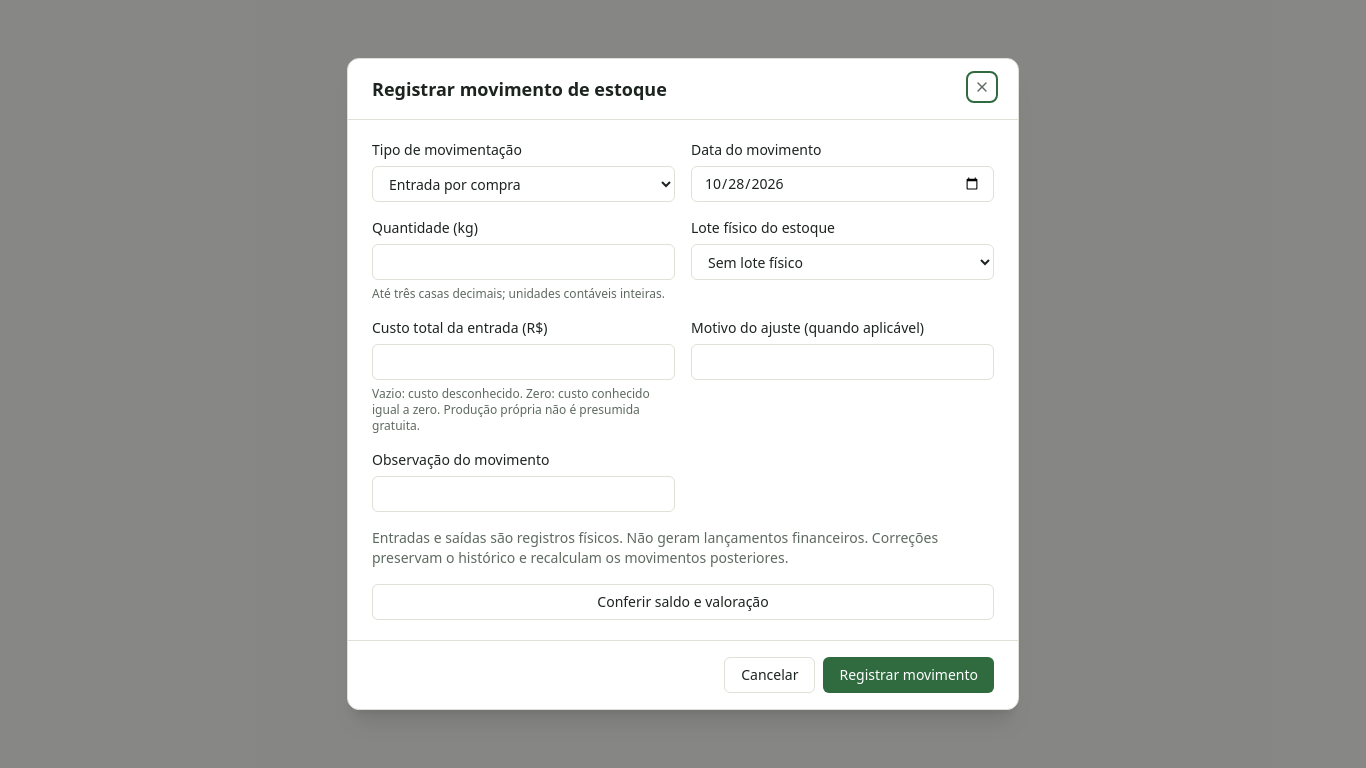
Test: estoque: interface e entradas explícitas › recusa quantidade ambígua antes do IPC
The width and height of the screenshot is (1366, 768).
Type "1.050" into the field labelled "Quantidade (kg)" at (524, 262), box x1=372 y1=244 x2=675 y2=280
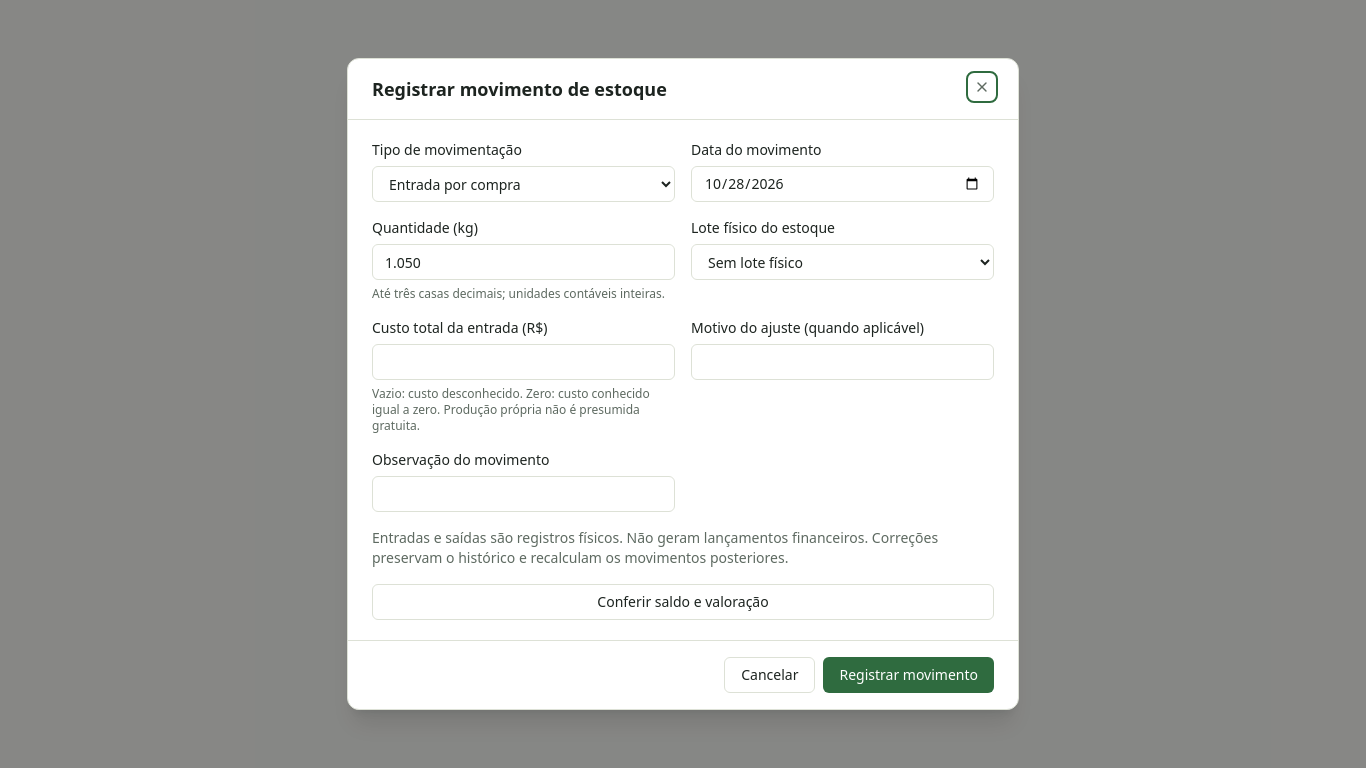
Click the button "Registrar movimento" at (909, 675), box x1=824 y1=657 x2=994 y2=693
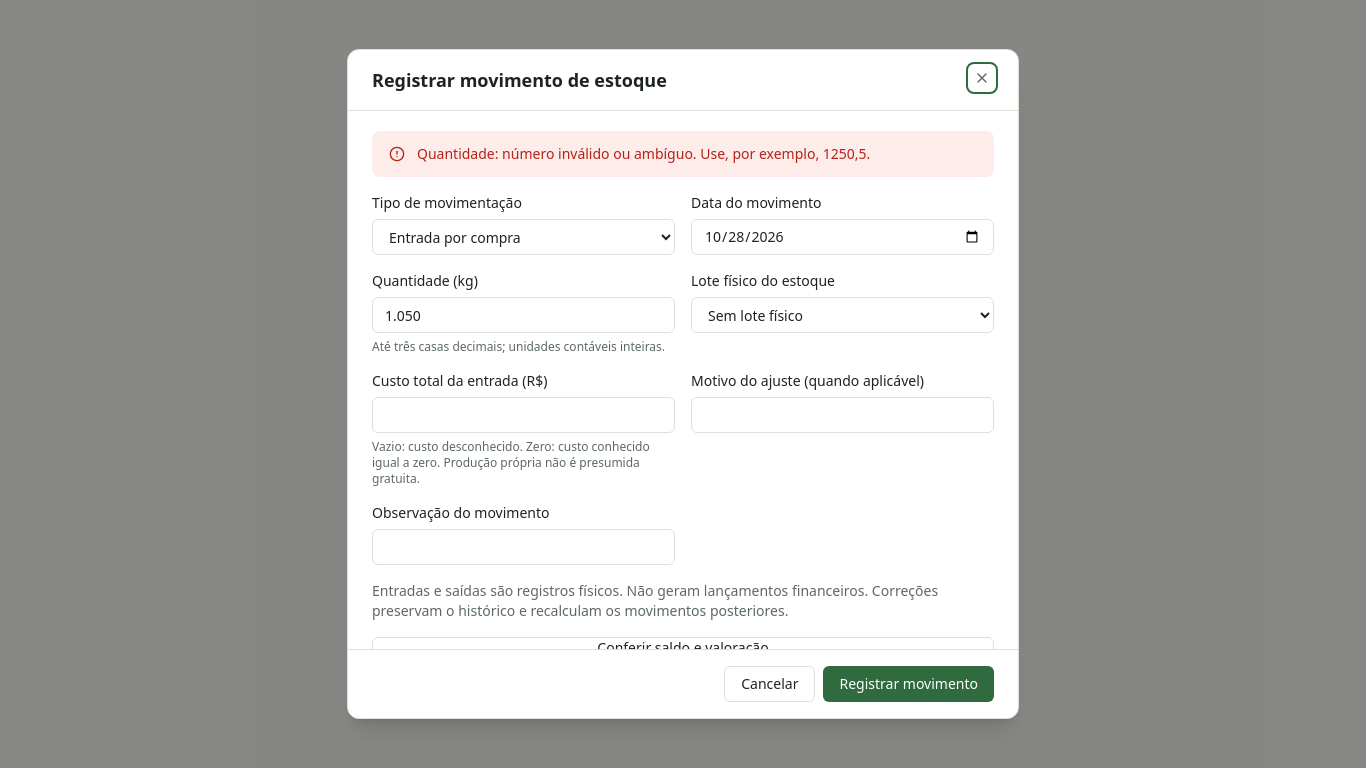
Now the text "Quantidade: número inválido ou ambíguo" is shown, box x1=417 y1=144 x2=870 y2=163
